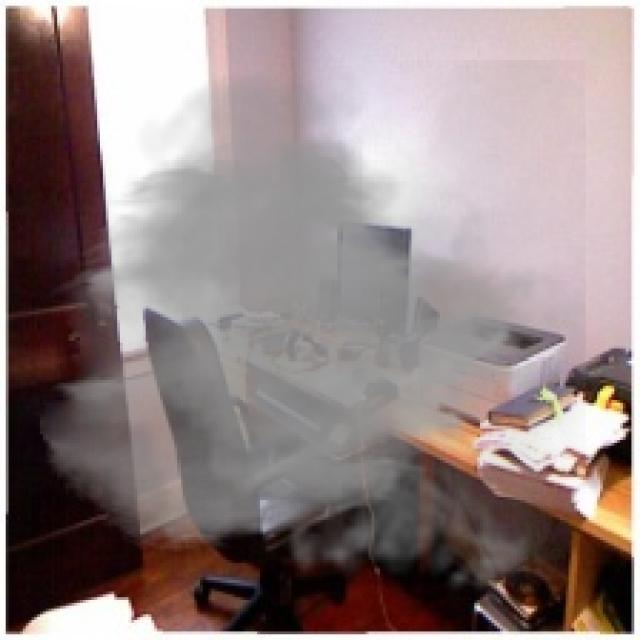smoke: (34, 60, 586, 609)
